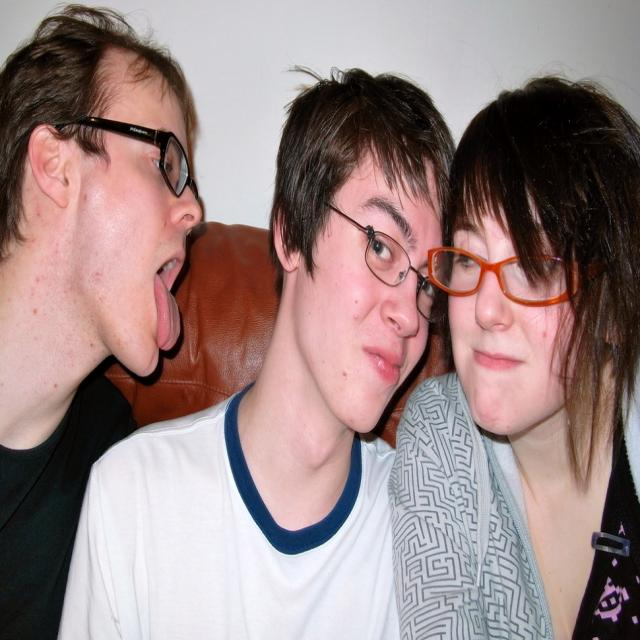Glasses: (53, 114, 211, 235), (321, 203, 449, 333), (427, 242, 572, 306)
